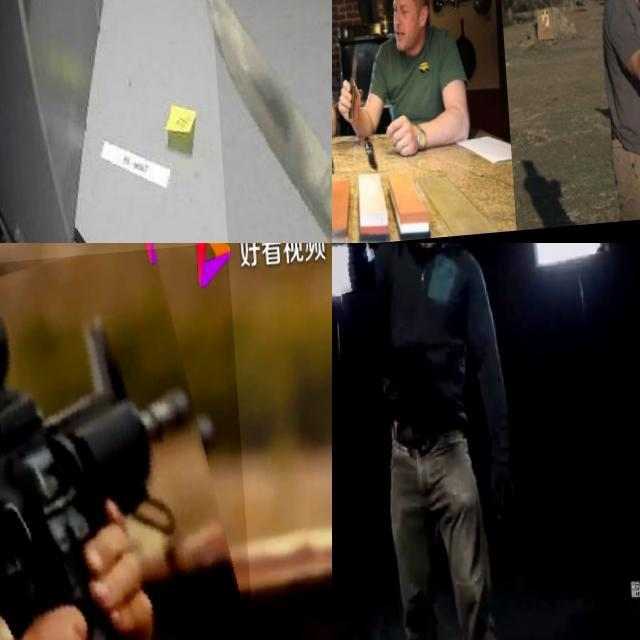-: (204, 0, 332, 243), (332, 36, 356, 119), (332, 0, 370, 52)
gun-knife-thesis - v11 Yolov5 augmented: (0, 252, 257, 640), (332, 243, 373, 310)
